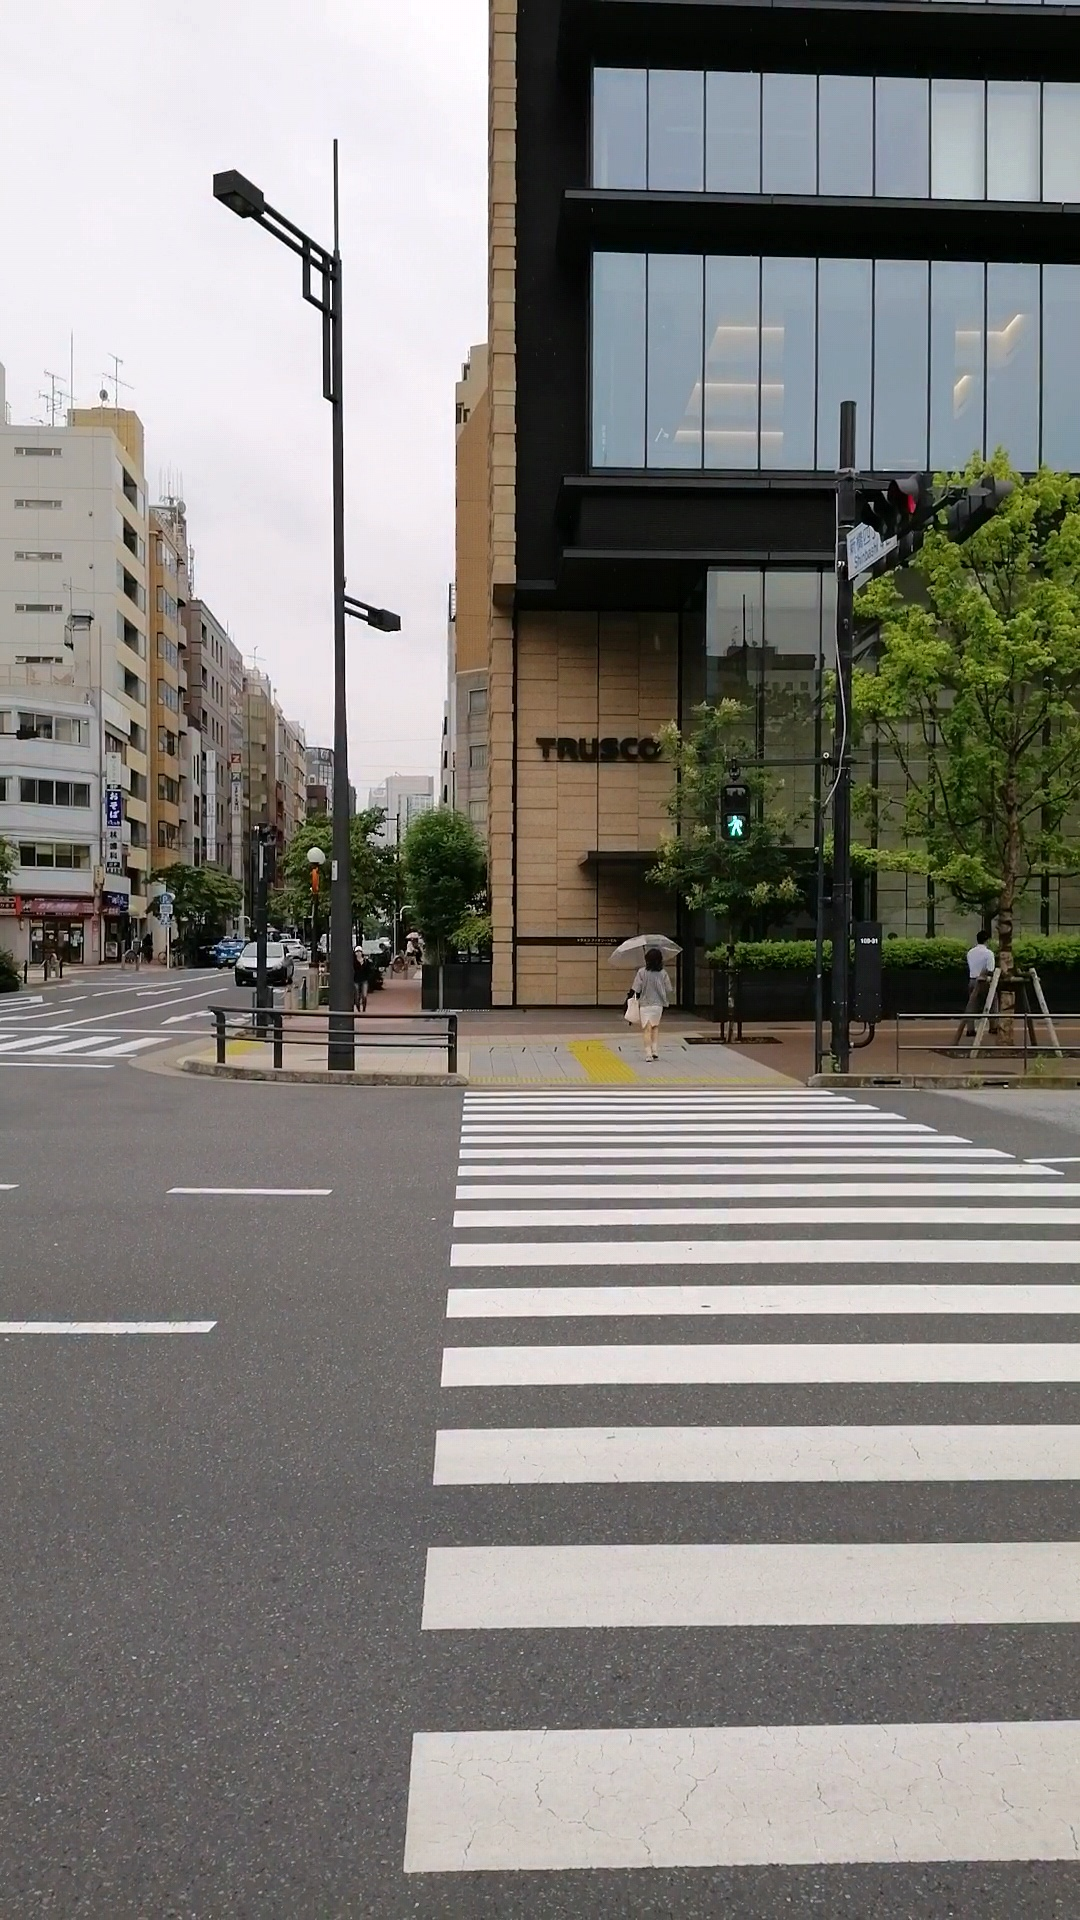green: (719, 785, 752, 843)
